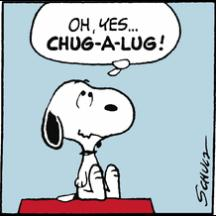snoopy: (39, 78, 136, 202)
